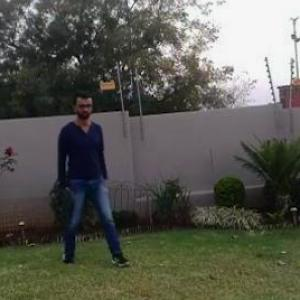follow: (54, 94, 111, 259)
